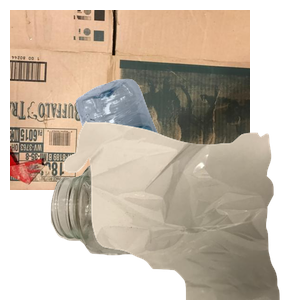cardboard: (10, 10, 250, 190)
glass: (48, 156, 260, 300)
plastic: (73, 76, 300, 256)
trash: (61, 120, 300, 300)
